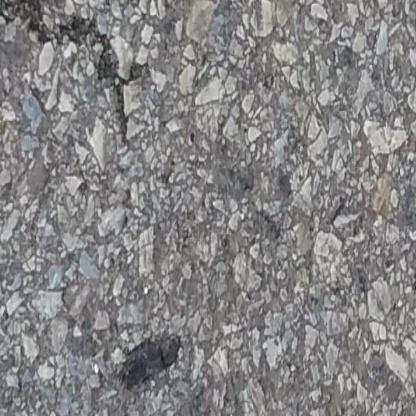Cracks: (0, 0, 130, 143)
